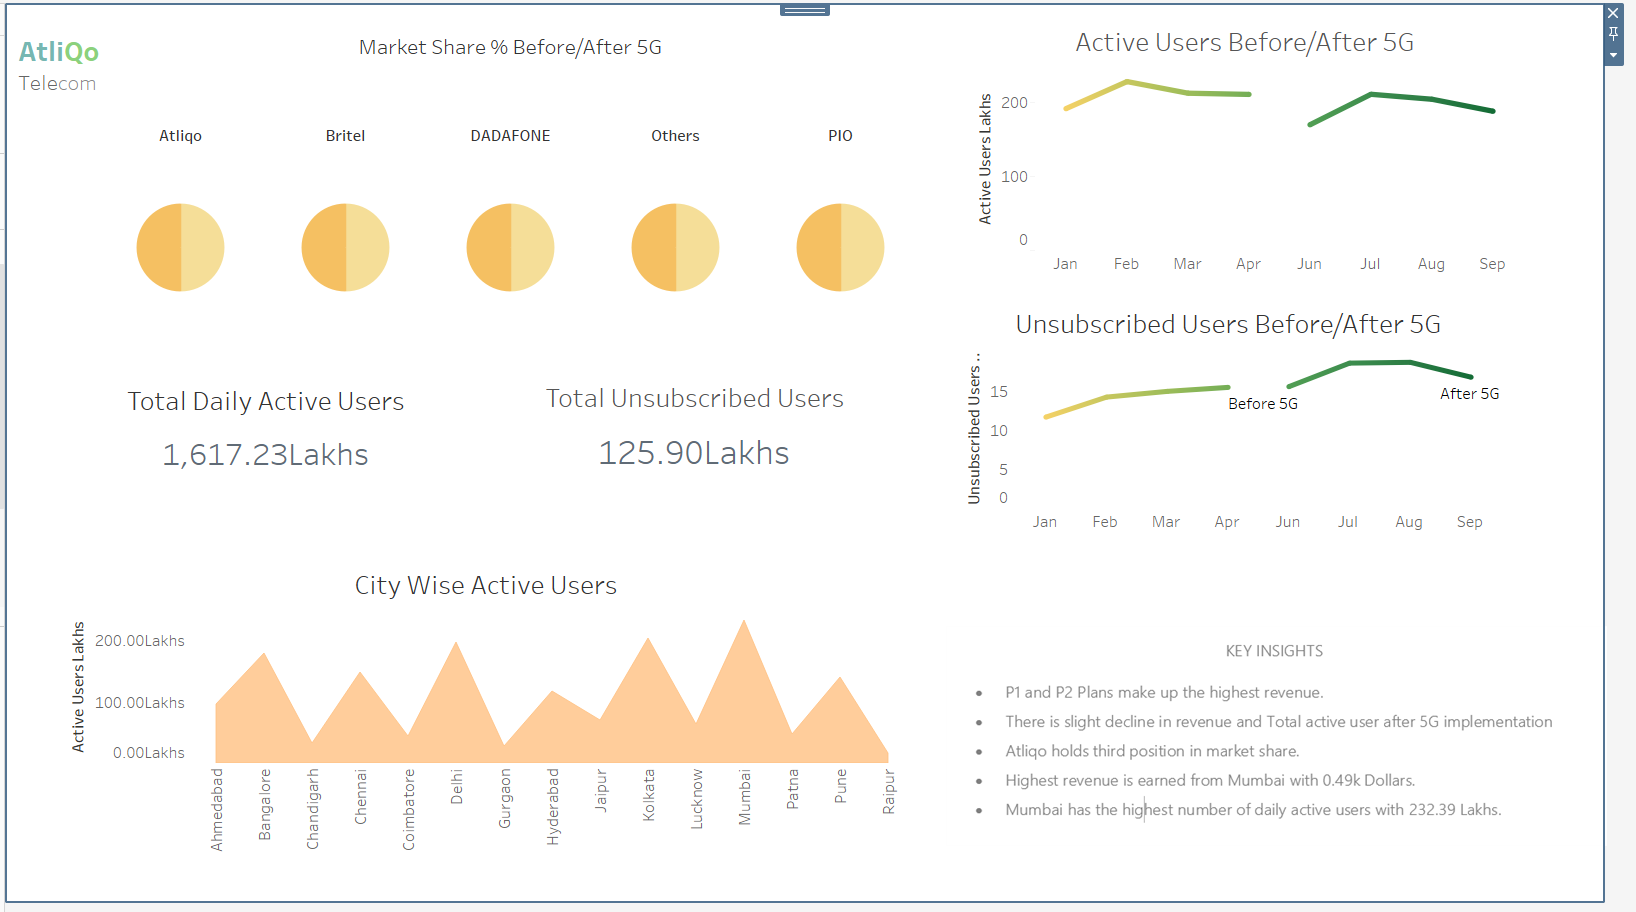

The page's visual inventory and layout, read from the dashboard file:
{"tool":"tableau","page":{"name":"Dashboard 3","canvas":[1600,900],"ordinal":1},"visuals":[{"type":"text","box":[10,10,145,103]},{"type":"worksheet","title":"active user before and after 5g","mark":"Line","rows":["active_users_lakhs"],"cols":["month_name"],"box":[962,17,593,295]},{"type":"worksheet","title":"MS","mark":"Pie","cols":["company"],"box":[93,25,825,268]},{"type":"worksheet","title":"unsc. 5g","mark":"Line","rows":["unsubscribed_users_lakhs"],"cols":["month_name"],"box":[951,299,545,278]},{"type":"worksheet","title":"unsubscribed users","mark":"Automatic","box":[491,373,398,116]},{"type":"worksheet","title":"active user","mark":"Automatic","box":[59,376,404,137]},{"type":"worksheet","title":"City Wise Active Users","mark":"Area","rows":["active_users_lakhs"],"cols":["city_name"],"box":[55,560,852,300]},{"type":"image","param":"D:/key insights.png","box":[941,623,661,255]}]}

Visuals, with their boxes on the page's 1600x900 design canvas (x1, y1, x2, y2). These are canvas units, not pixel positions in the 1636x912 screenshot, which may show the page scaled, cropped or inside an application window:
text: (x1=10, y1=10, x2=155, y2=113)
"active user before and after 5g" worksheet (Line marks): (x1=962, y1=17, x2=1555, y2=312)
"MS" worksheet (Pie marks): (x1=93, y1=25, x2=918, y2=293)
"unsc. 5g" worksheet (Line marks): (x1=951, y1=299, x2=1496, y2=577)
"unsubscribed users" worksheet: (x1=491, y1=373, x2=889, y2=489)
"active user" worksheet: (x1=59, y1=376, x2=463, y2=513)
"City Wise Active Users" worksheet (Area marks): (x1=55, y1=560, x2=907, y2=860)
image: (x1=941, y1=623, x2=1602, y2=878)
